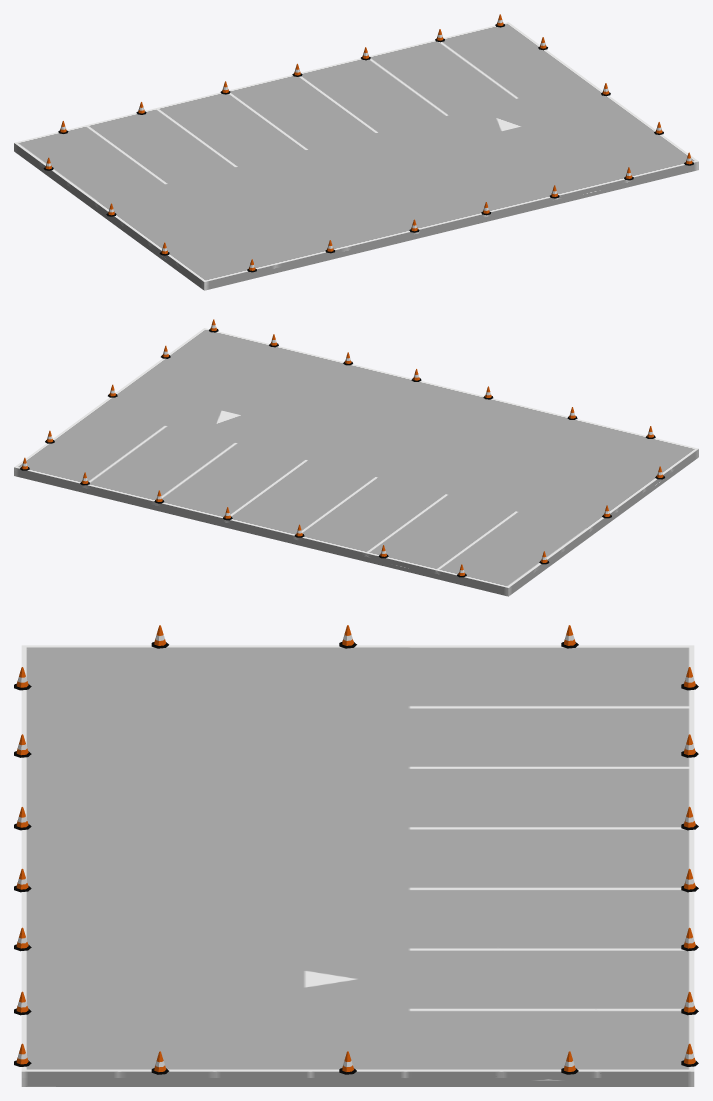
The picture shows the model from 3 angles, top to bottom: view 1: azimuth 30°, elevation 25°; view 2: azimuth 150°, elevation 25°; view 3: azimuth 270°, elevation 25°; orthographic projection. The views are drawn at different scales.
Visible parts, largest first — view 1: Ground; view 2: Ground; view 3: Ground.
Boxes of the visible parts, box(x1,y1,x2,y2) form: Ground: box(14, 22, 698, 290); Ground: box(14, 328, 698, 596); Ground: box(21, 645, 694, 1086).
Size of what is drawn, in the model's own units: 61.07 by 2.29 by 40.74.
4 materials, 1 textured.
